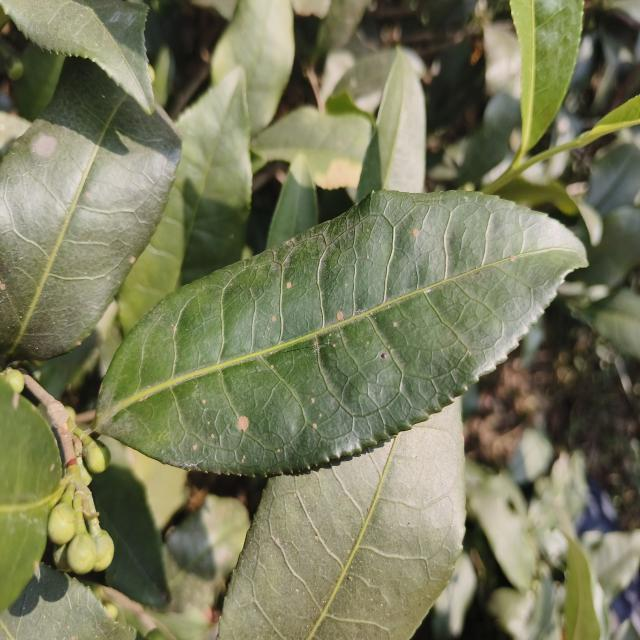Leaf: (94, 191, 586, 475), (219, 400, 465, 640), (0, 58, 181, 360), (119, 67, 252, 334), (0, 0, 155, 114), (0, 373, 63, 609), (510, 0, 583, 160), (91, 462, 169, 607), (211, 0, 295, 134), (356, 49, 426, 201), (0, 563, 136, 640), (164, 494, 250, 612), (253, 106, 371, 189), (469, 489, 537, 590), (458, 92, 521, 184), (266, 155, 318, 248), (332, 49, 397, 112), (587, 143, 640, 219), (564, 537, 600, 640), (588, 289, 640, 359), (509, 428, 553, 484), (411, 56, 424, 72)
